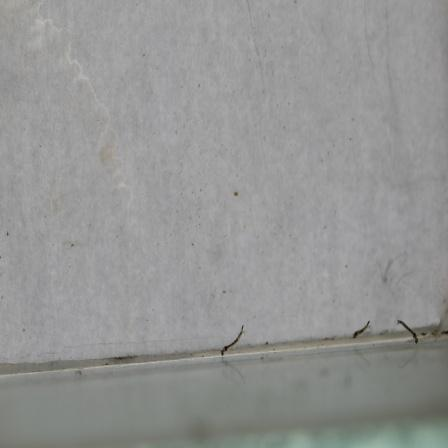Jentik-Nyamuk: (218, 322, 247, 358), (394, 316, 422, 348), (348, 315, 373, 341)
